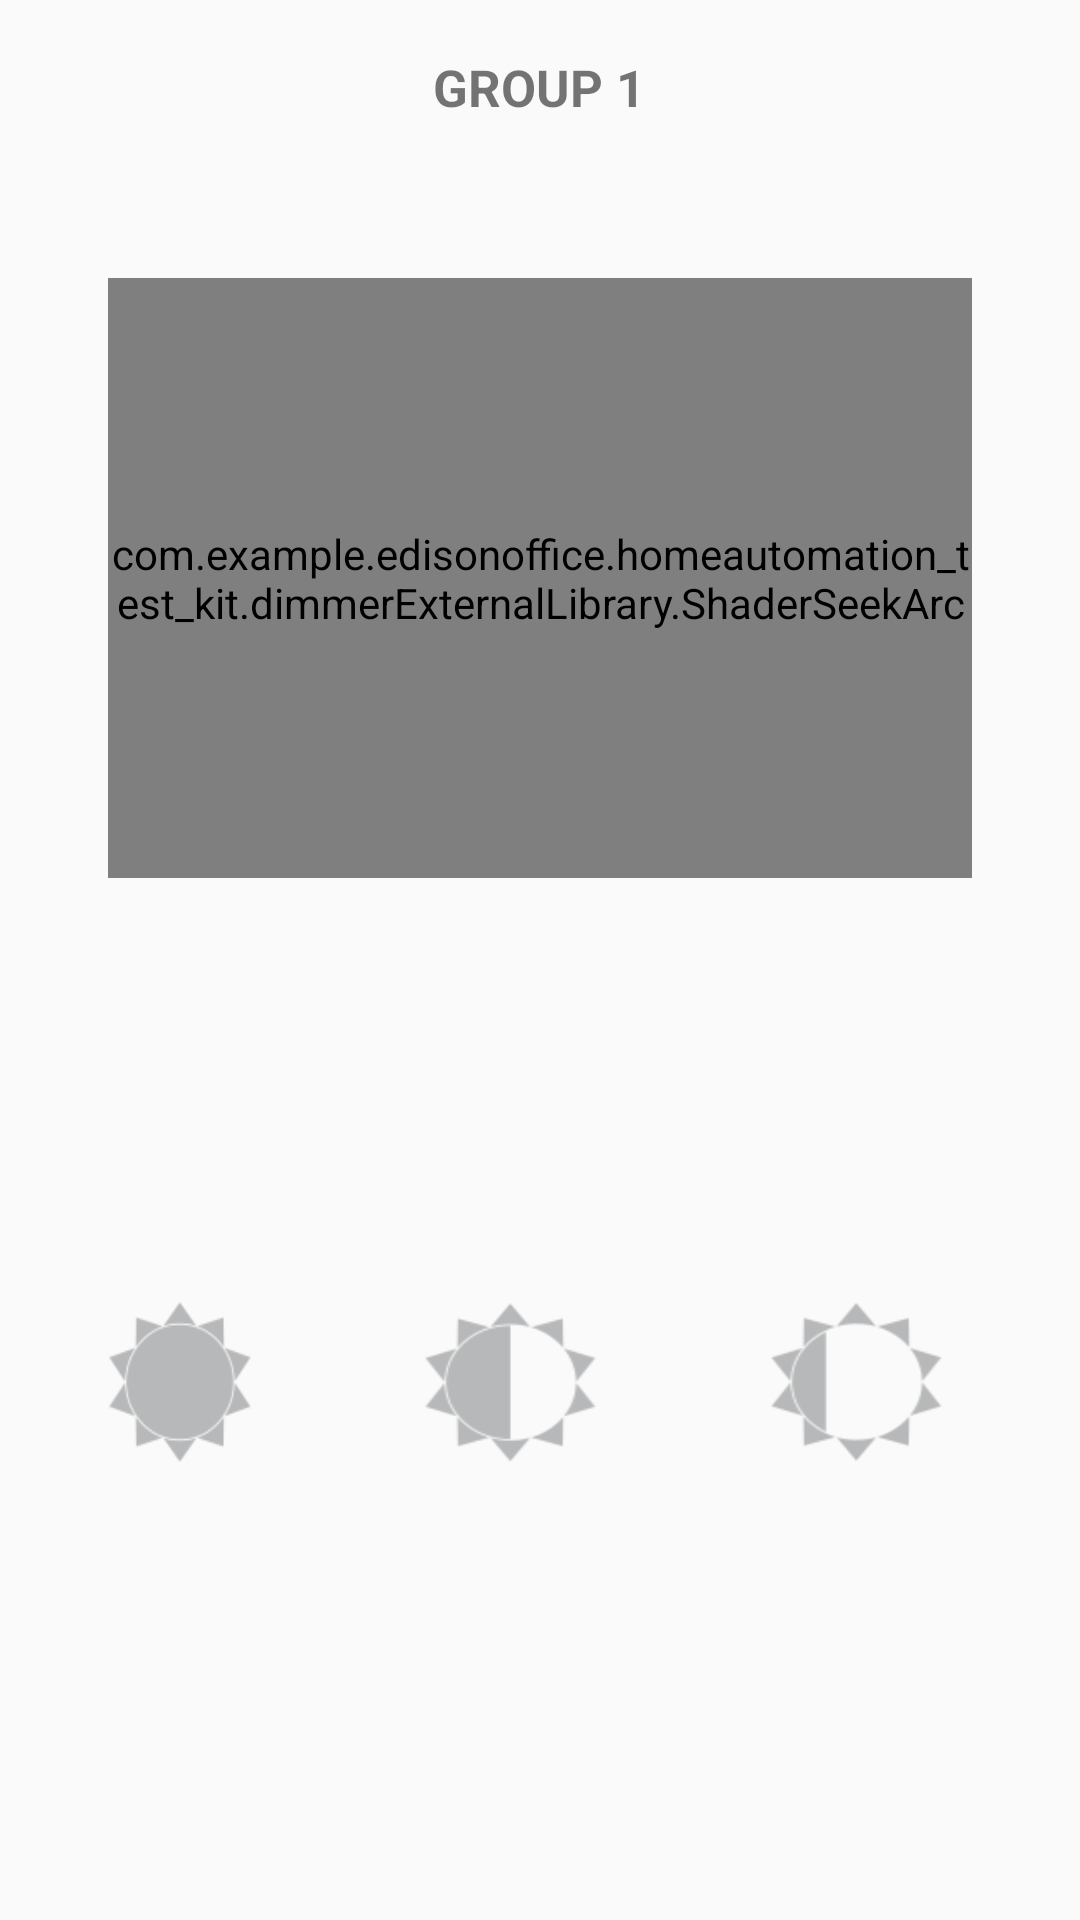

Where to tap for icons on this 1080px×1920px app screen, as (x,y):
dimmer high: (180,1382)
dimmer low: (856,1382)
dimmer medium: (510,1382)
